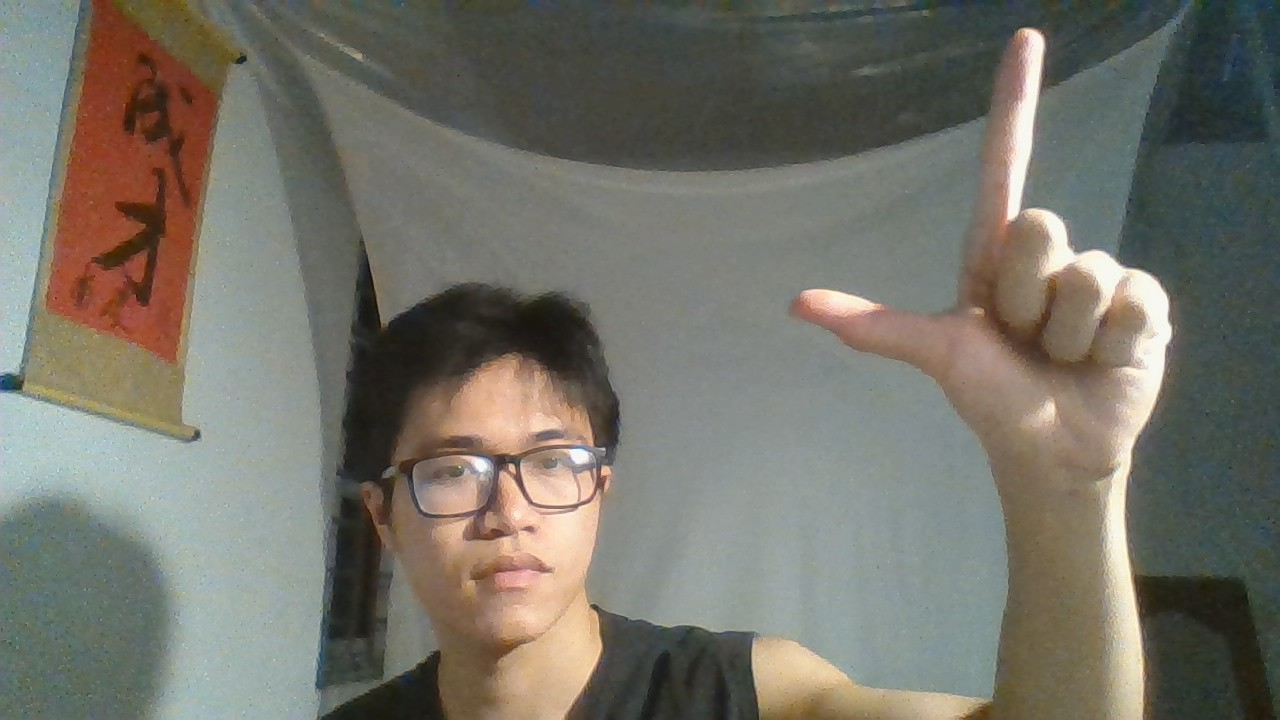l: (745, 13, 1231, 481)
